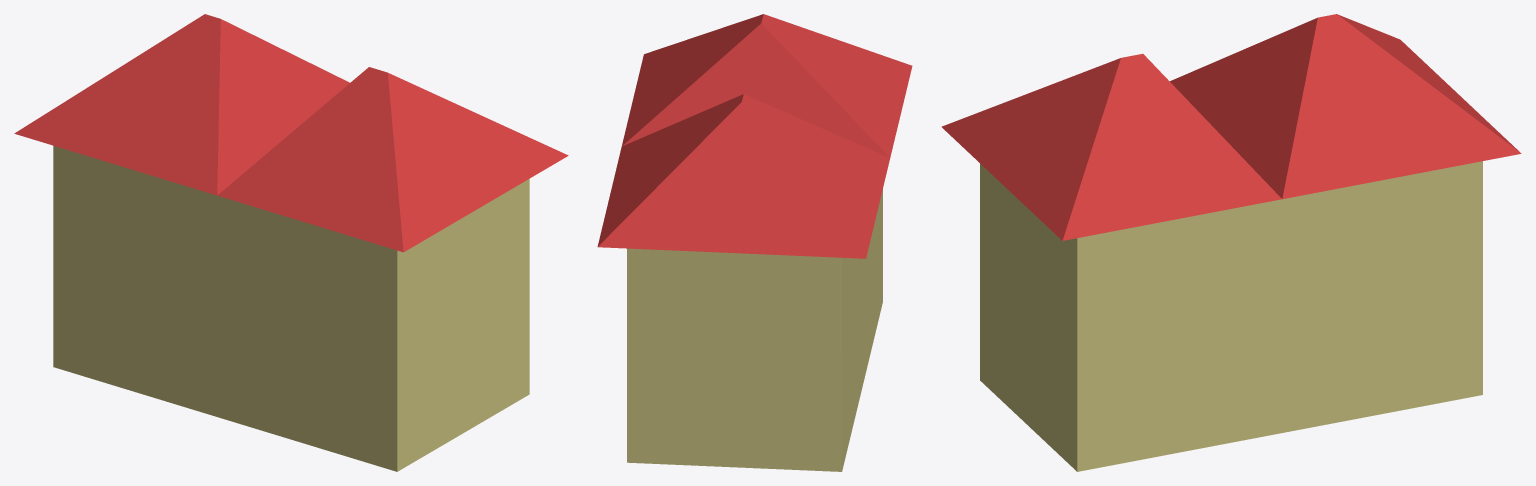
3 renders of one model, left to right at view 1: azimuth 30°, elevation 25°; view 2: azimuth 150°, elevation 25°; view 3: azimuth 270°, elevation 25°, orthographic. The views are drawn at different scales.
Parts seen in each view (by area): view 1: group_5, group_3, group_4; view 2: group_5, group_3, group_4; view 3: group_5, group_3, group_4.
Boxes of the visible parts, x1=… form: group_5: x1=53, y1=145, x2=529, y2=471; group_3: x1=53, y1=14, x2=568, y2=251; group_4: x1=14, y1=108, x2=403, y2=252; group_5: x1=627, y1=189, x2=882, y2=471; group_3: x1=597, y1=14, x2=905, y2=258; group_4: x1=598, y1=46, x2=912, y2=258; group_5: x1=980, y1=161, x2=1482, y2=471; group_3: x1=941, y1=14, x2=1521, y2=240; group_4: x1=1062, y1=34, x2=1519, y2=240.
Bounding box in the file's own units: 16.19 × 19.73 × 13.32.
